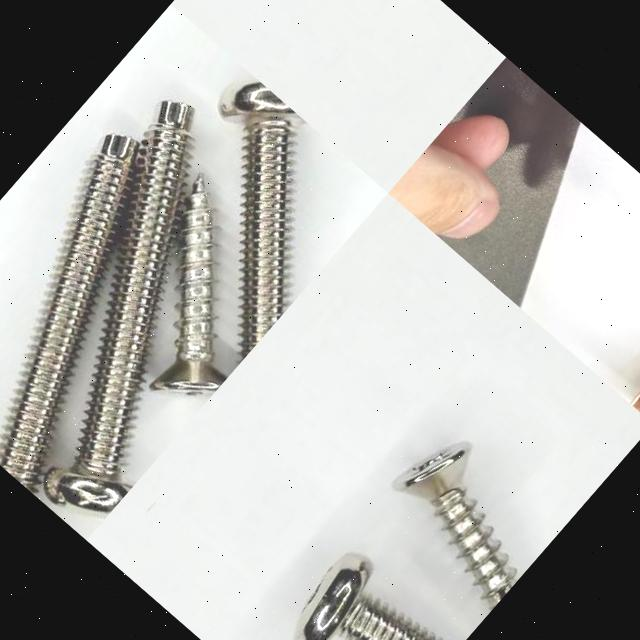Screw: (44, 102, 193, 514), (0, 136, 138, 497), (221, 82, 297, 360), (393, 443, 517, 609), (151, 176, 227, 396), (293, 554, 439, 640)
